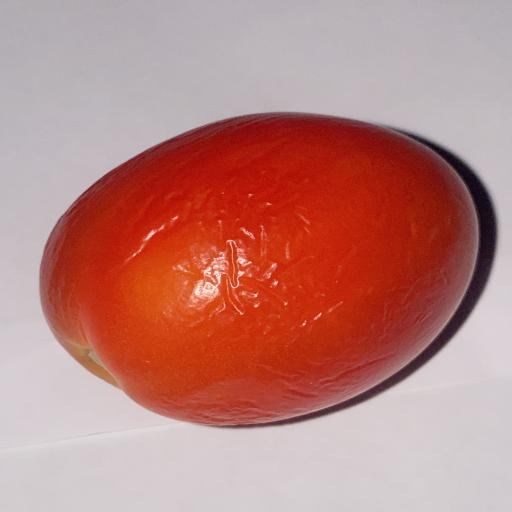spoiled: (40, 113, 478, 425)
